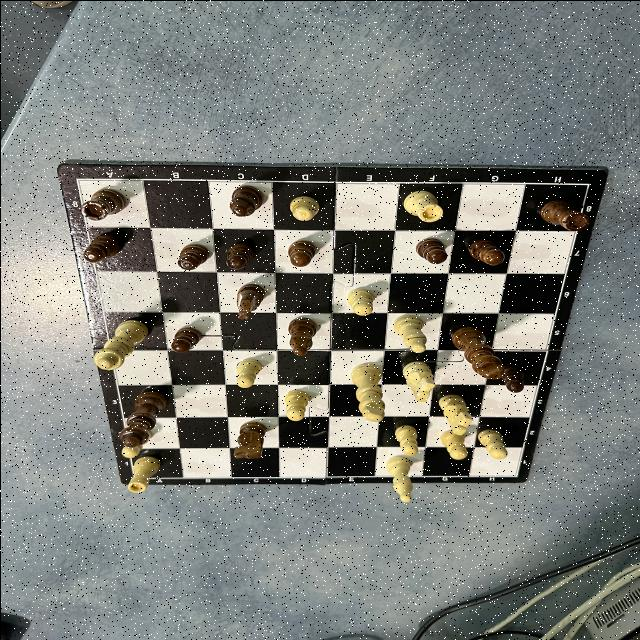Black-Bishop: (228, 184, 262, 217), (288, 316, 316, 356)
Black-King: (450, 326, 504, 378)
Black-Knight: (231, 420, 265, 458), (236, 284, 264, 320)
Black-Pawn: (82, 233, 121, 263), (468, 238, 504, 264), (414, 236, 446, 264), (176, 243, 208, 270), (224, 242, 254, 270), (170, 326, 202, 352), (286, 240, 314, 266), (500, 365, 524, 392)
Black-Queen: (117, 391, 168, 446)
Black-Rook: (539, 199, 589, 231), (79, 188, 125, 220)
White-Bishop: (392, 313, 427, 352), (384, 455, 412, 503)
White-King: (349, 363, 385, 421)
White-Knight: (436, 393, 474, 435), (401, 361, 435, 401)
White-Pawn: (476, 428, 507, 459), (438, 428, 466, 459), (392, 424, 418, 454), (235, 358, 261, 388), (288, 194, 318, 220), (284, 390, 308, 420), (347, 288, 372, 316), (120, 442, 142, 458)
White-Queen: (92, 318, 148, 369)
White-Rook: (402, 188, 442, 222), (126, 454, 160, 492)
